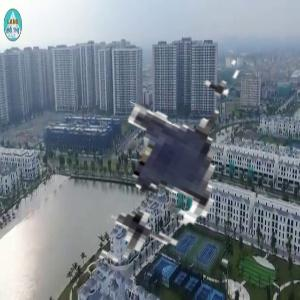drone: (26, 10, 290, 274)
